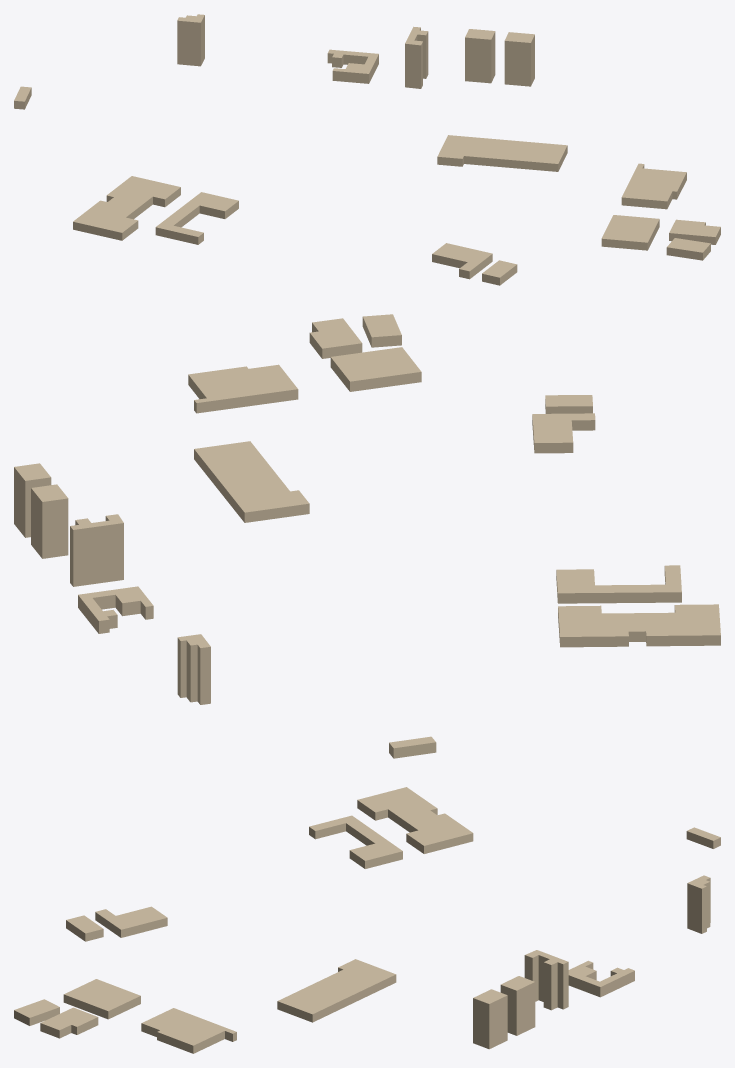
Rendered from -19_3-estimated-coarse.glb.
3 renders of one model, top to bottom at view 1: azimuth 30°, elevation 25°; view 2: azimuth 150°, elevation 25°; view 3: azimuth 270°, elevation 25°, orthographic. The views are drawn at different scales.
Bounding box in the file's own units: 809 × 66 × 934.
